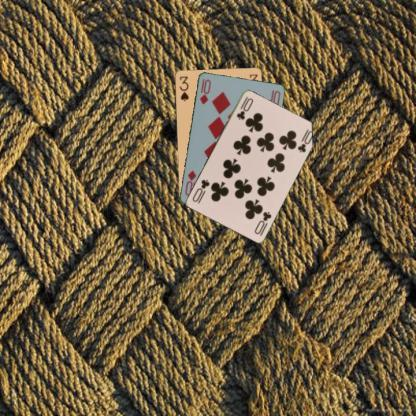10c: (252, 209, 273, 235), (234, 94, 254, 121)
10d: (197, 76, 212, 105)
3s: (177, 74, 189, 102)
